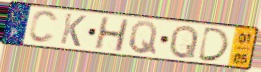C: (27, 9, 60, 45)
D: (196, 26, 231, 63)
H: (92, 16, 130, 53)
K: (58, 12, 88, 49)
Q: (168, 24, 201, 60), (128, 20, 160, 57)
